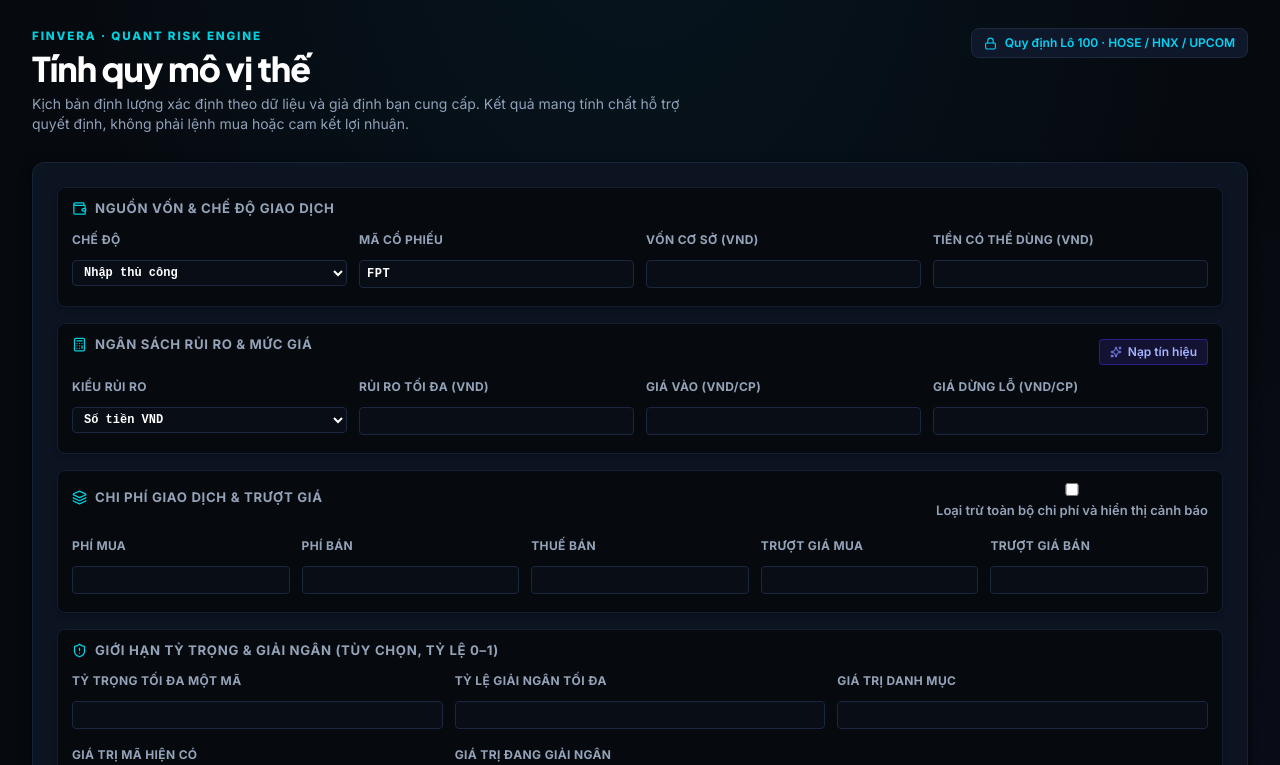
PositionSizingPage › loads an owner portfolio and removes manual capital fields in portfolio mode
Select "Theo danh mục" in the dropdown labelled "Chế độ": (210, 273) [72, 260, 347, 286]
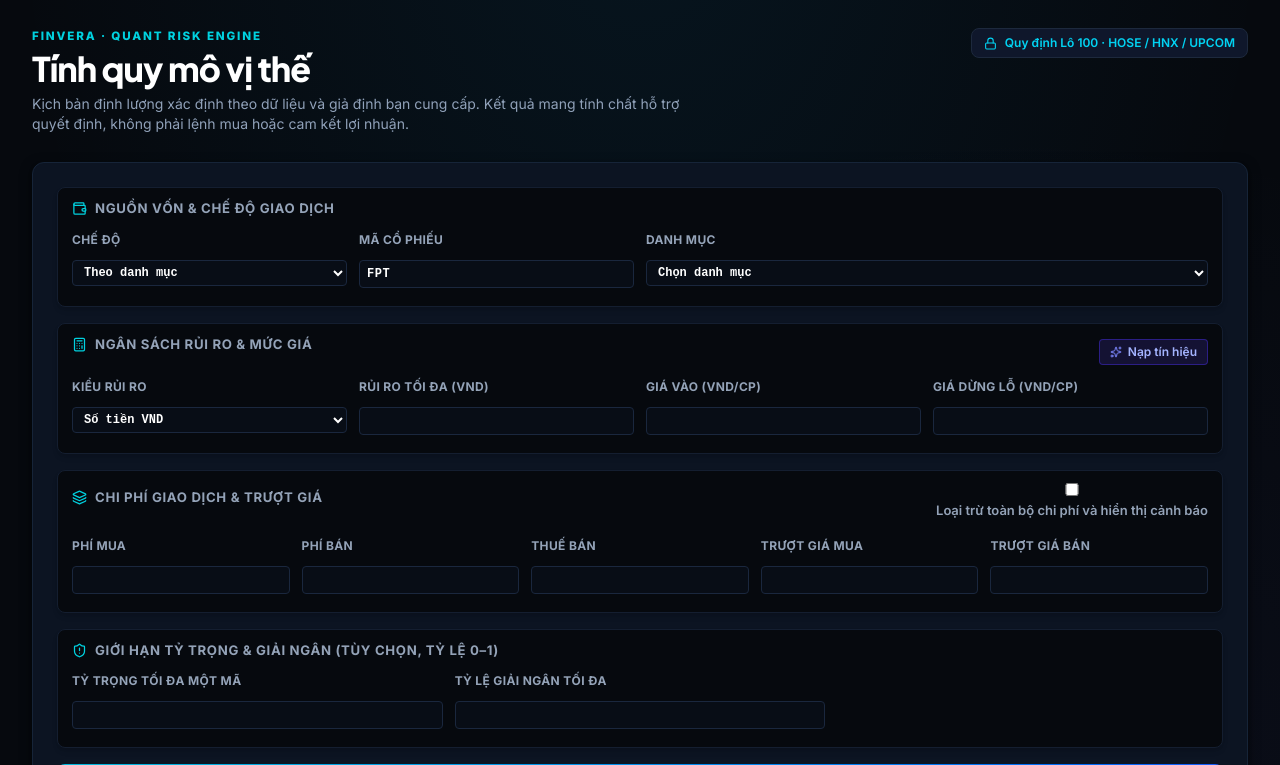
Result: the text labelled "Vốn cơ sở (VND)" is gone
